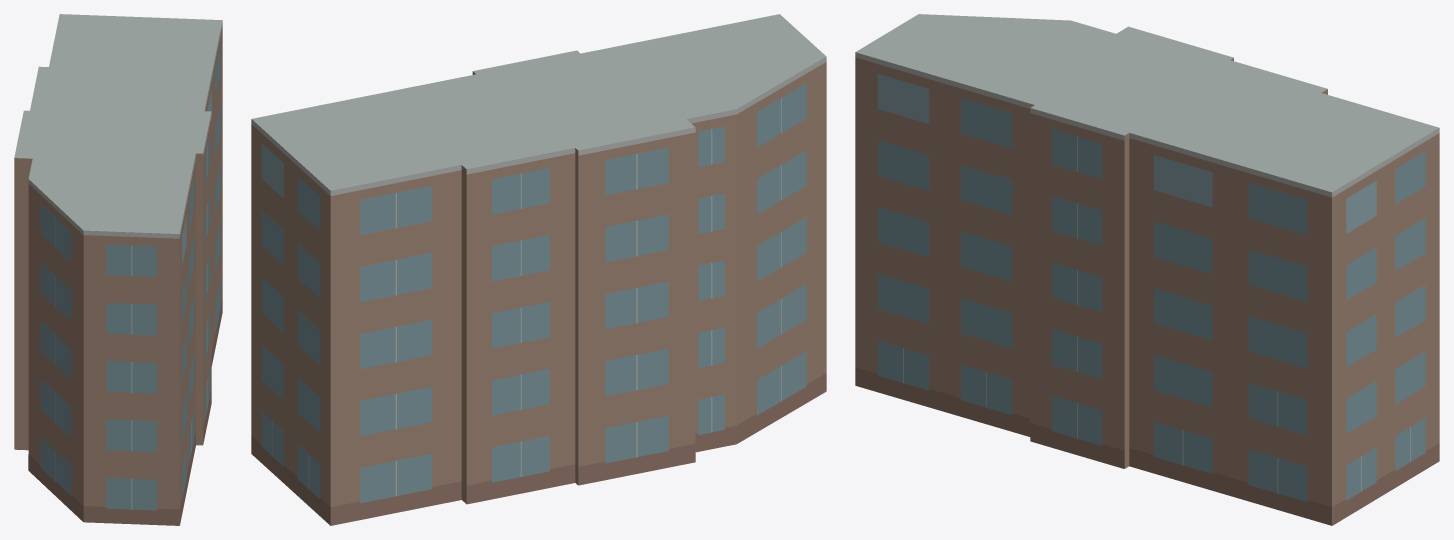
The model's file is survey-upis-32906652.glb.
3 views of the same model, side by side, from view 1: azimuth 30°, elevation 25°; view 2: azimuth 150°, elevation 25°; view 3: azimuth 270°, elevation 25° (orthographic). The views are drawn at different scales.
Visible parts, largest first — view 1: survey-upis-32906652.tmp; view 2: survey-upis-32906652.tmp; view 3: survey-upis-32906652.tmp.
Part boxes in pixels (left/top/right/bottom): survey-upis-32906652.tmp: left=14, top=14, right=222, bottom=525; survey-upis-32906652.tmp: left=251, top=14, right=826, bottom=525; survey-upis-32906652.tmp: left=855, top=14, right=1439, bottom=525.
Size of the model in its own units: 18.06 by 15.73 by 24.99.
